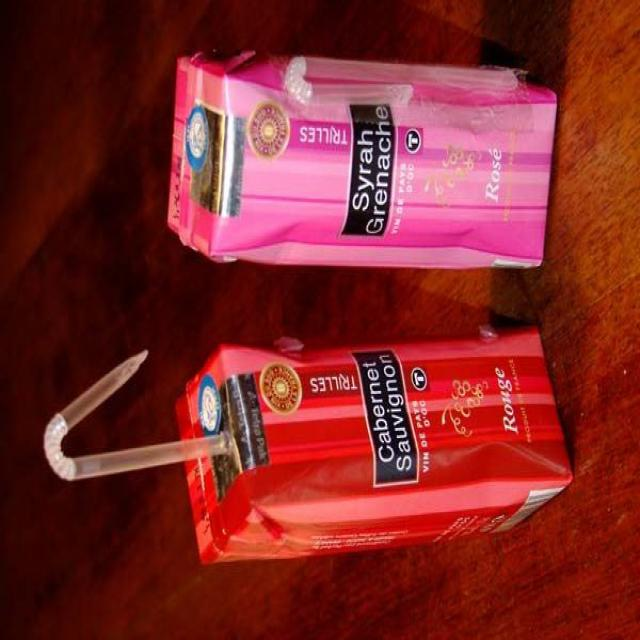non_white_jug: (177, 324, 573, 562), (166, 46, 559, 272)
